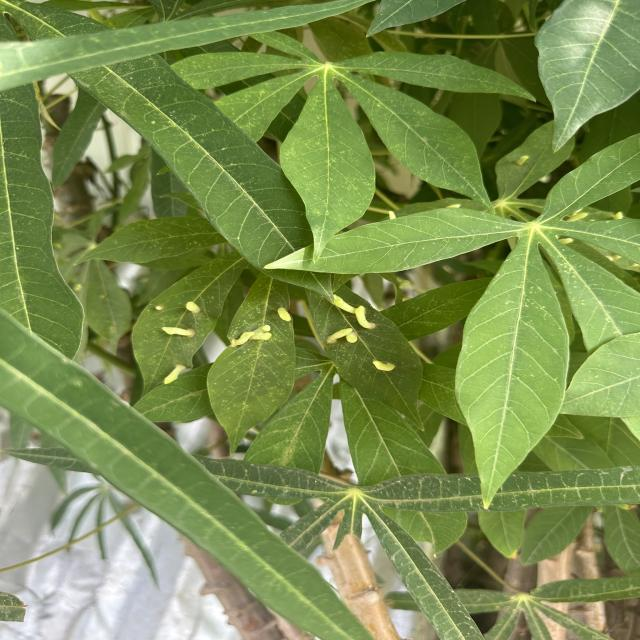Mosca: (325, 287, 375, 348), (365, 349, 403, 385), (225, 323, 280, 347), (150, 314, 200, 338), (266, 294, 303, 325), (161, 357, 191, 385), (606, 199, 632, 229), (180, 296, 209, 316), (144, 287, 164, 316), (600, 247, 628, 267), (548, 229, 578, 247), (565, 204, 588, 225), (507, 150, 530, 167)
